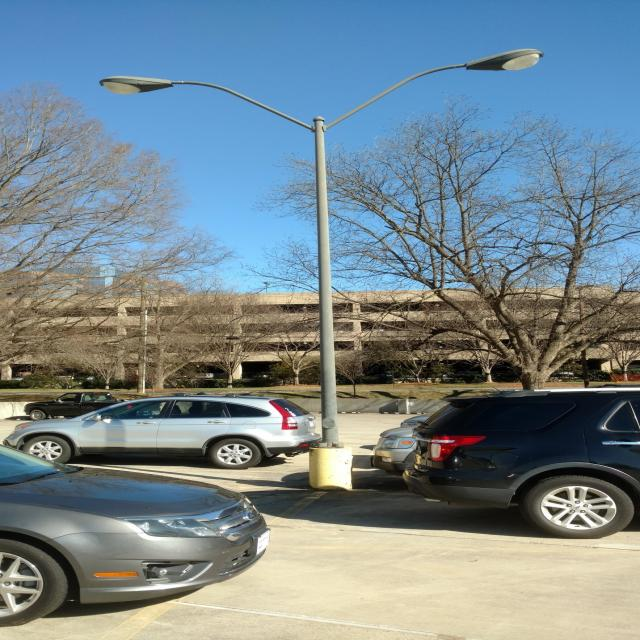Electric pole: (281, 63, 468, 490), (100, 75, 280, 114), (469, 49, 542, 69)
